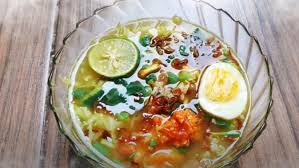soto: (47, 3, 282, 168)
